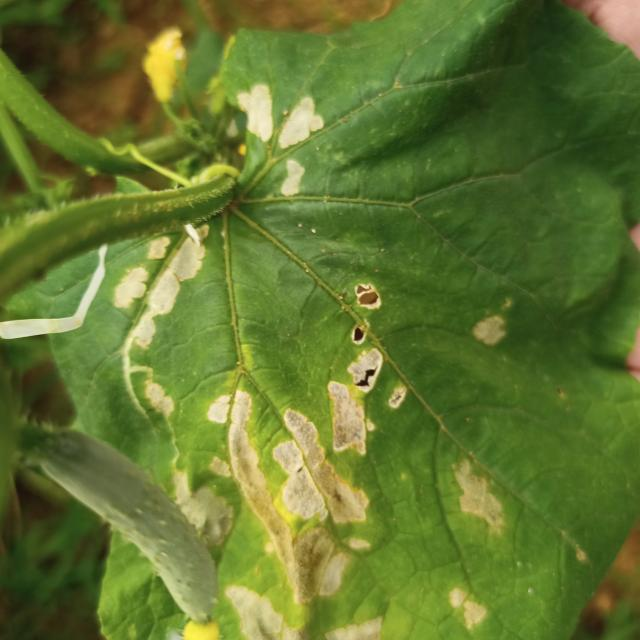disease_cucumber: (113, 223, 509, 635), (230, 79, 326, 197)
